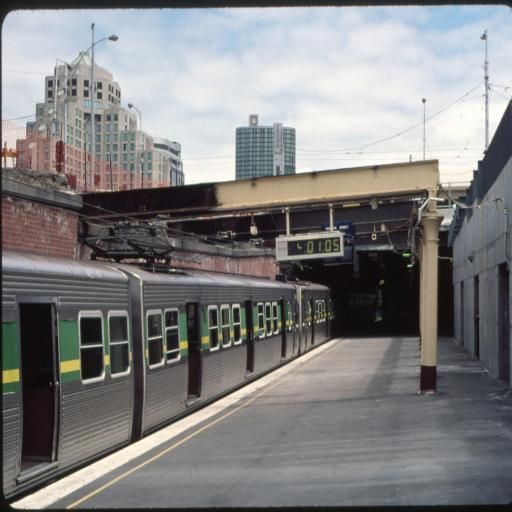platform_edge: (28, 378, 270, 505)
